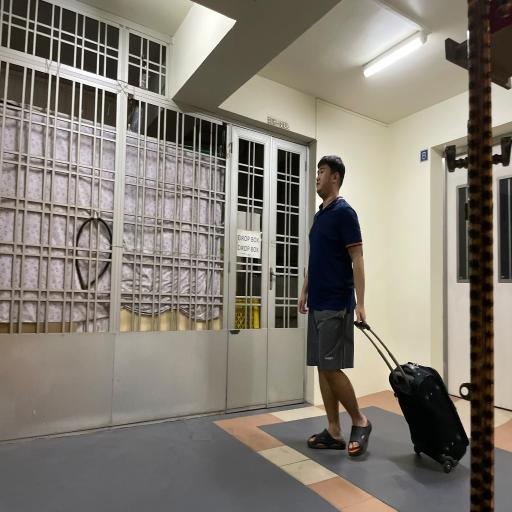person_left: (303, 145, 468, 487)
